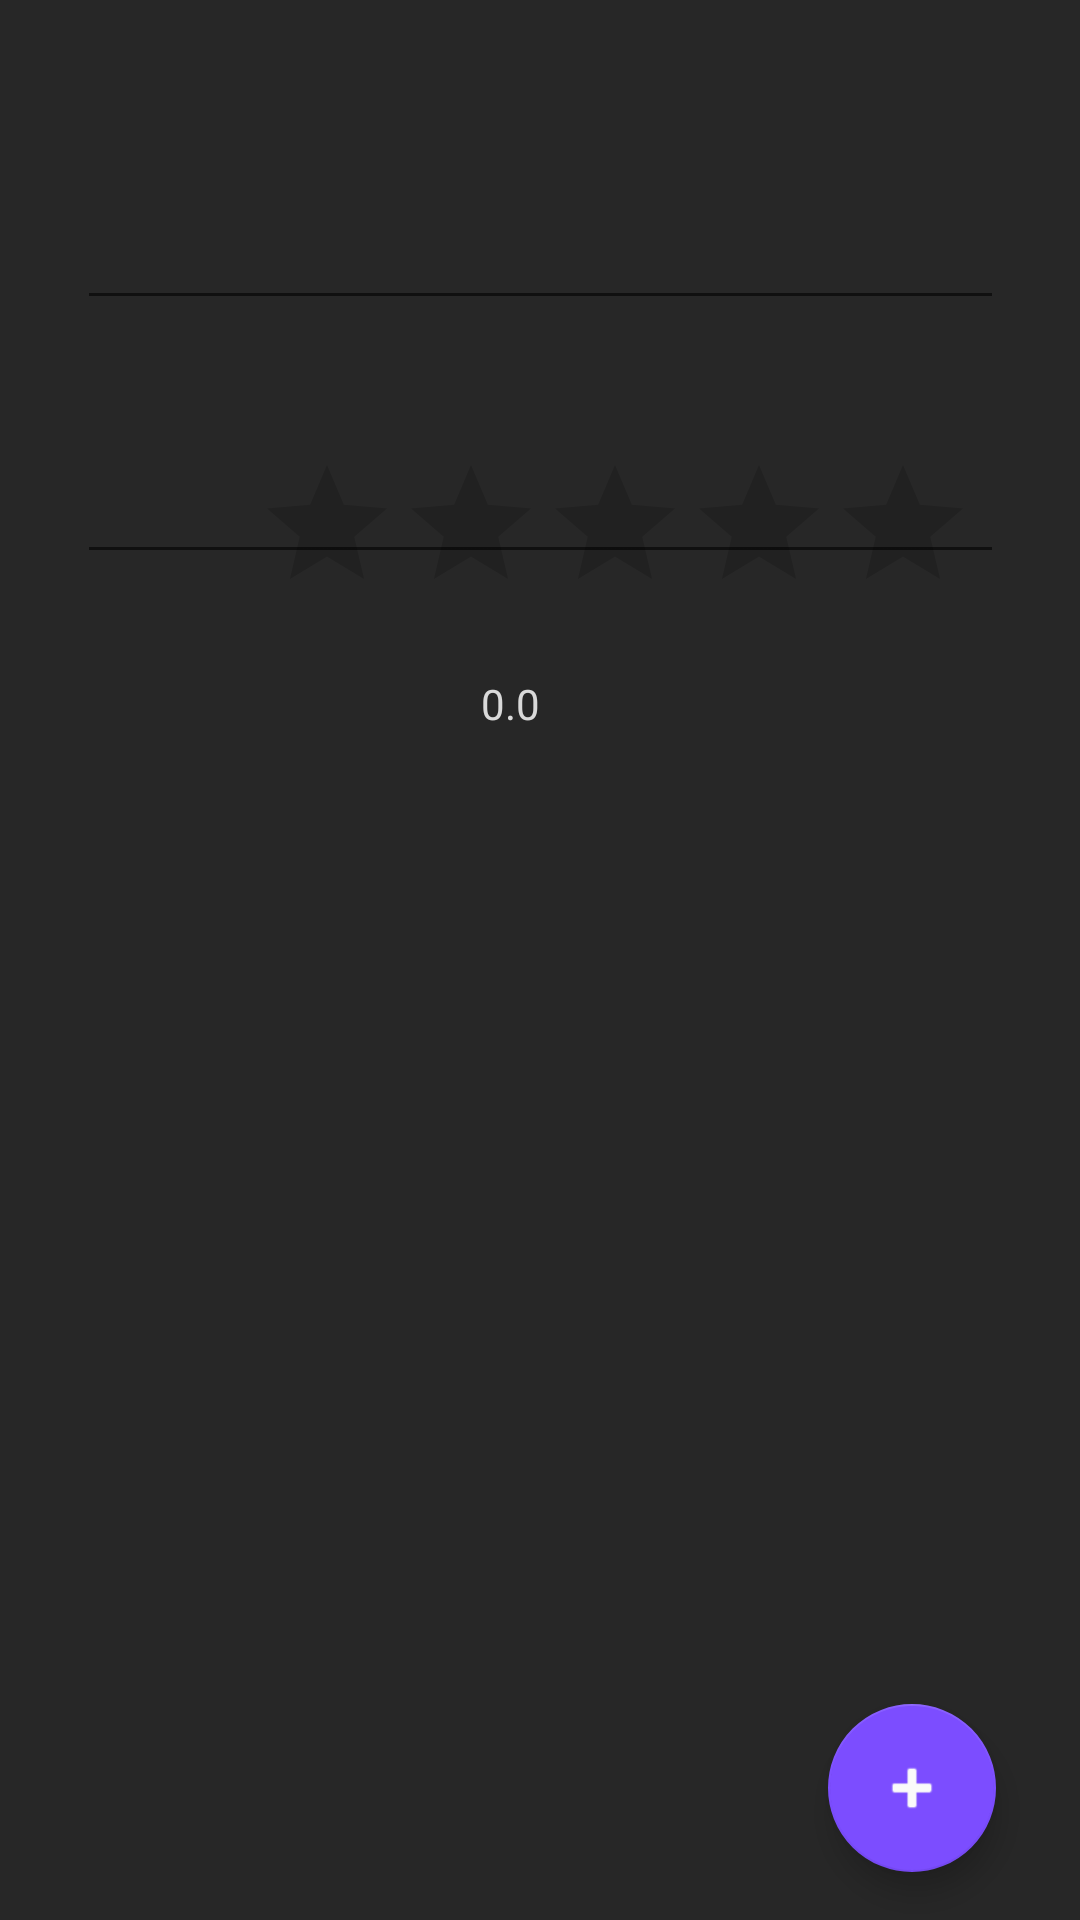

Icon click points for this 1080*1920 phone screenshot, format (x,y):
add: (912,1788)
